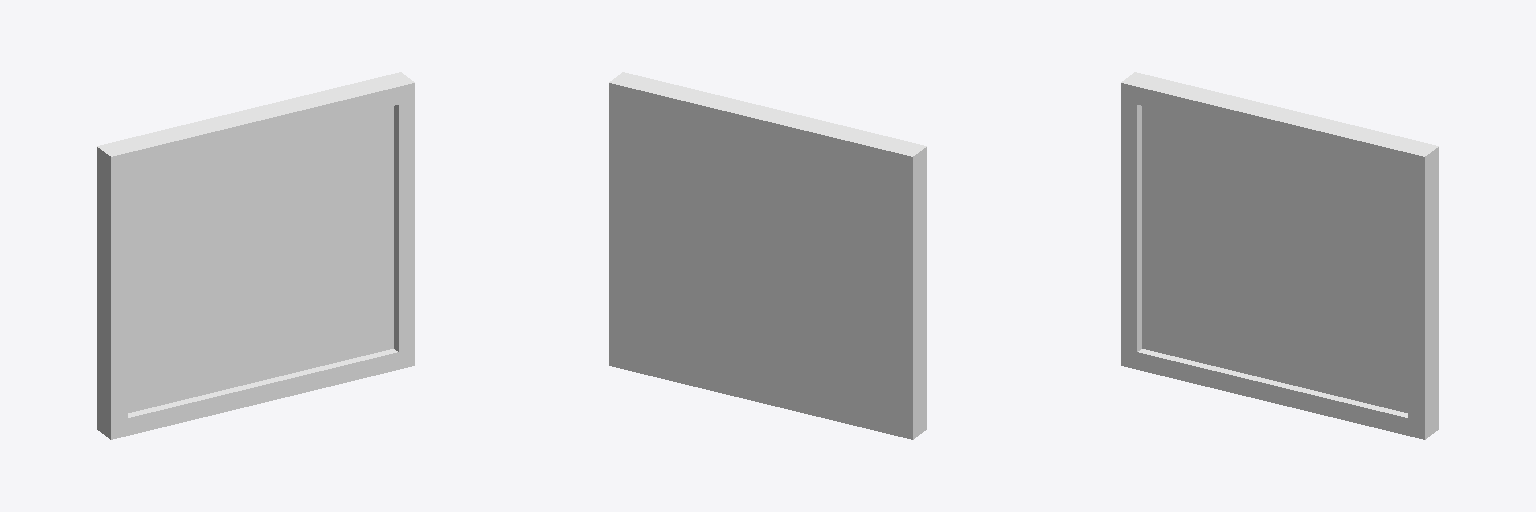
Rendered from marcoQR.obj.
The picture shows the model from 3 angles: view 1: azimuth 30°, elevation 25°; view 2: azimuth 150°, elevation 25°; view 3: azimuth 330°, elevation 25°; orthographic projection.
Parts seen in each view (by area): view 1: object 1; view 2: object 1; view 3: object 1.
Part boxes in pixels (x1,y1,x2,y2): object 1: (97, 72, 414, 439); object 1: (609, 72, 926, 439); object 1: (1121, 72, 1438, 439).
Bounding box in the file's own units: 3.6 × 3.2 × 0.3.